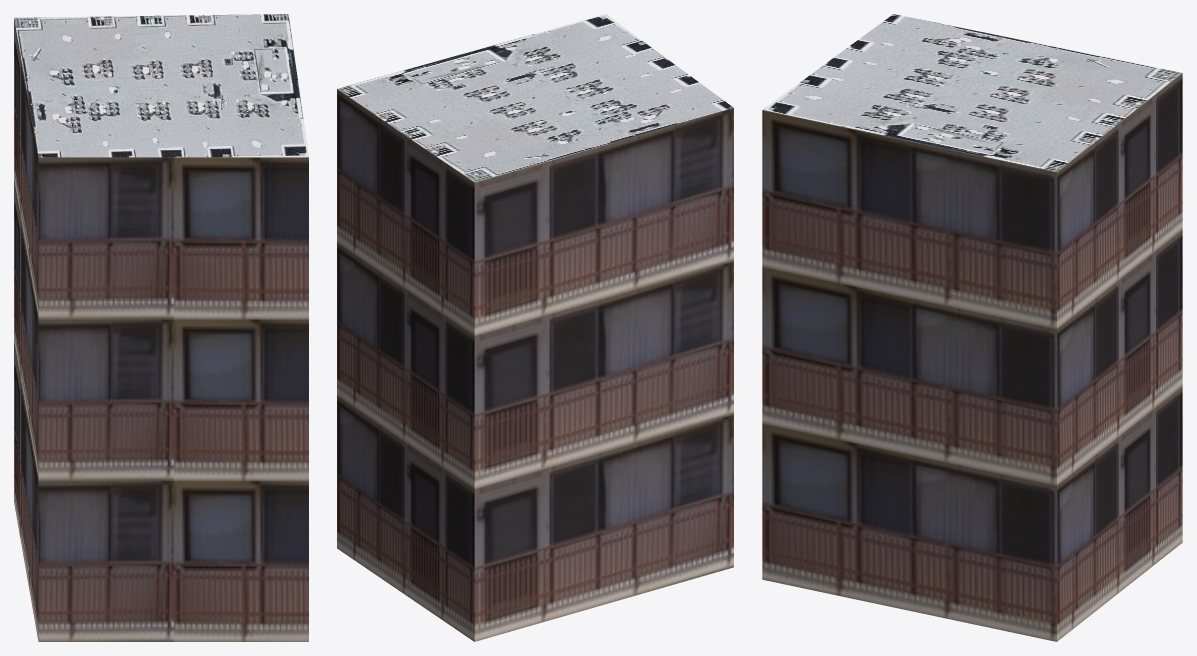
The model's file is ResTex__446.fbx.
3 renders of one model, left to right at view 1: azimuth 30°, elevation 25°; view 2: azimuth 150°, elevation 25°; view 3: azimuth 270°, elevation 25°, orthographic. The views are drawn at different scales.
Visible parts, largest first — view 1: CityEngineMaterial_6_m, CityEngineMaterial_m; view 2: CityEngineMaterial_6_m, CityEngineMaterial_m; view 3: CityEngineMaterial_6_m, CityEngineMaterial_m.
Part boxes in pixels (<box>): CityEngineMaterial_6_m: <box>14,18,308,641</box>; CityEngineMaterial_m: <box>14,14,308,157</box>; CityEngineMaterial_6_m: <box>337,89,733,641</box>; CityEngineMaterial_m: <box>337,14,733,182</box>; CityEngineMaterial_6_m: <box>762,73,1182,641</box>; CityEngineMaterial_m: <box>763,14,1181,171</box>.
Bounding box in the file's own units: 6.5 × 9 × 7.29.
2 materials, 2 textured.
